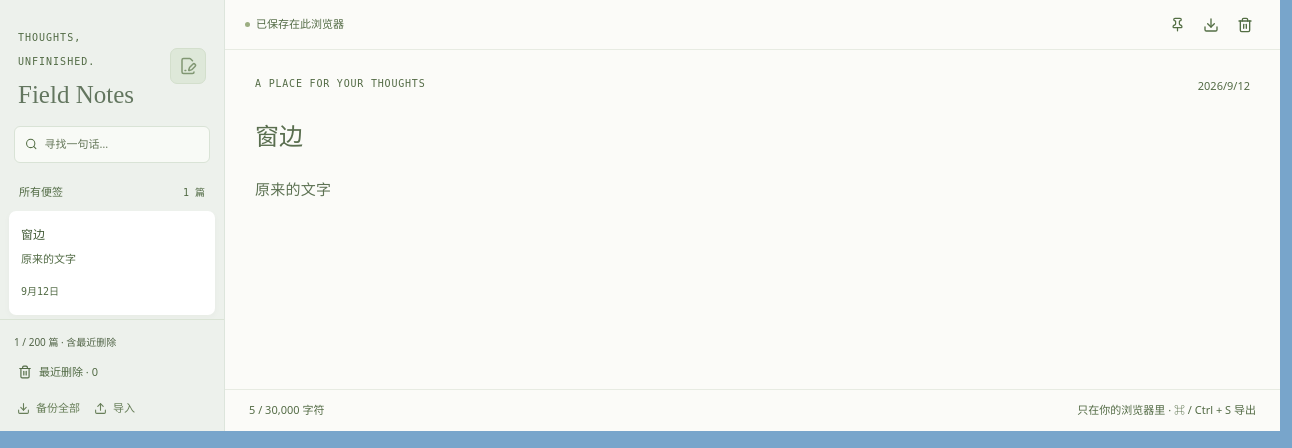
Field Notes download boundaries › reports a Blob failure without changing text and lets the user retry
Click the button named "导出笔记". click: (1211, 24)
box: [1196,10,1226,40]
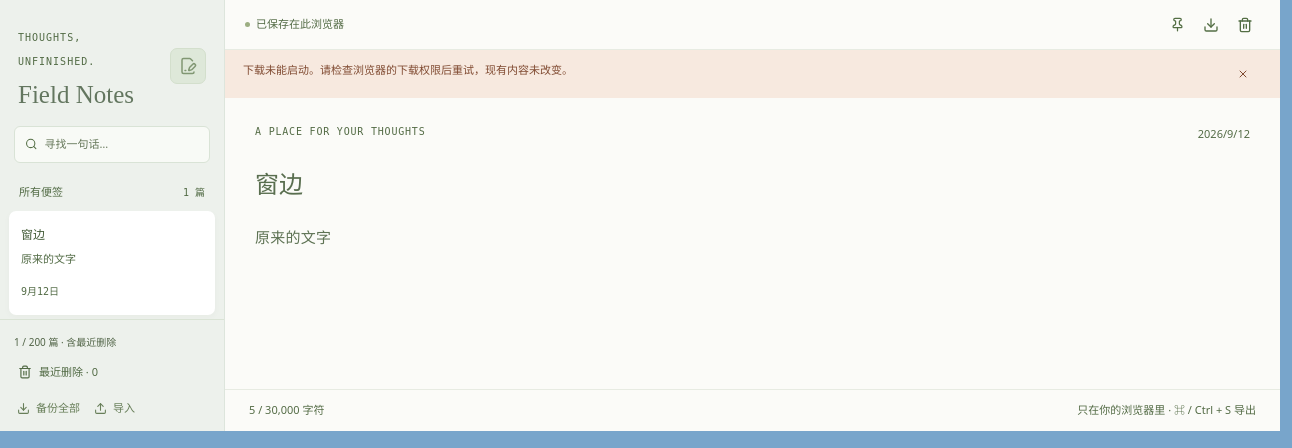
Check: the message "下载未能启动。请检查浏览器的下载权限后重试，现有内容未改变。" does not show "Native failure details", box [225,50,1280,98]
Check: the message "下载未能启动。请检查浏览器的下载权限后重试，现有内容未改变。" is shown, box [225,50,1280,98]
Click the button named "导出笔记". click: (1211, 24)
box: [1196,10,1226,40]
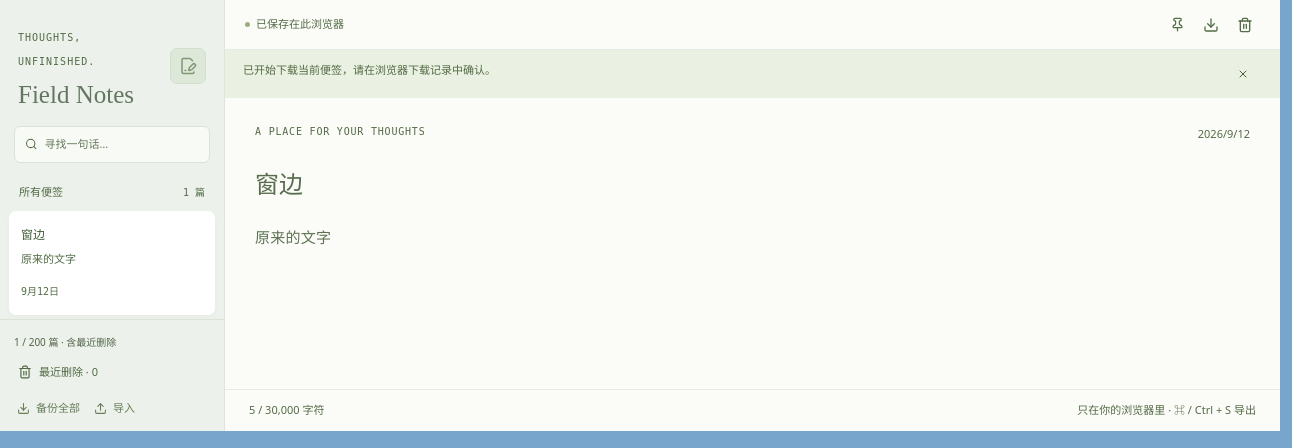
Check: the text "已开始下载当前便签，请在浏览器下载记录中确认。" is shown, box [243,62,496,77]
